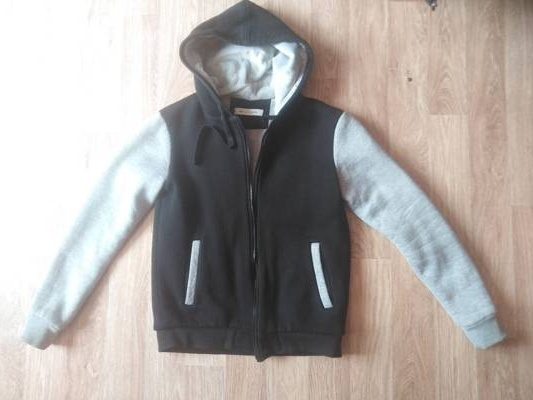Hoodie: (15, 7, 497, 379)
